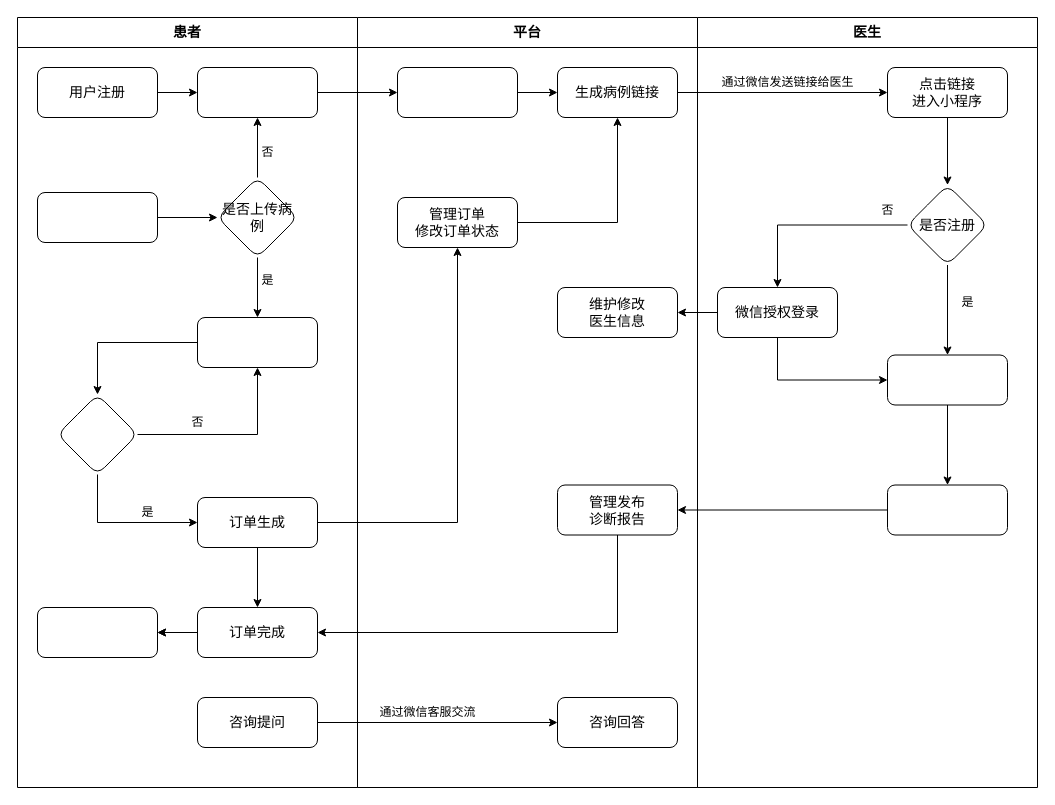
The diagram is 1055 pixels wide and 805 high, and some of its shapes have lost their labels. The centre of each missing label's shape, as x and y in pixels:
录入病情 上传病例资料: the point at 257,92
提交诊断意见: the point at 947,509
是否支付成功: the point at 97,434
查看指定病人病例: the point at 947,379
查看诊断报告: the point at 97,632
管理修改 病例资料: the point at 457,92
订单支付: the point at 257,342
选择套餐下单支付: the point at 97,217
